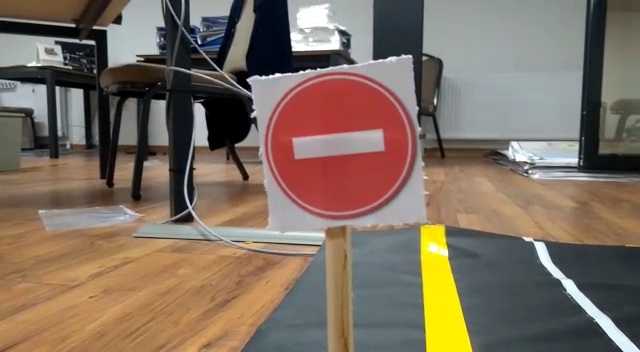girisi_olmayan_yol: (256, 74, 415, 226)
